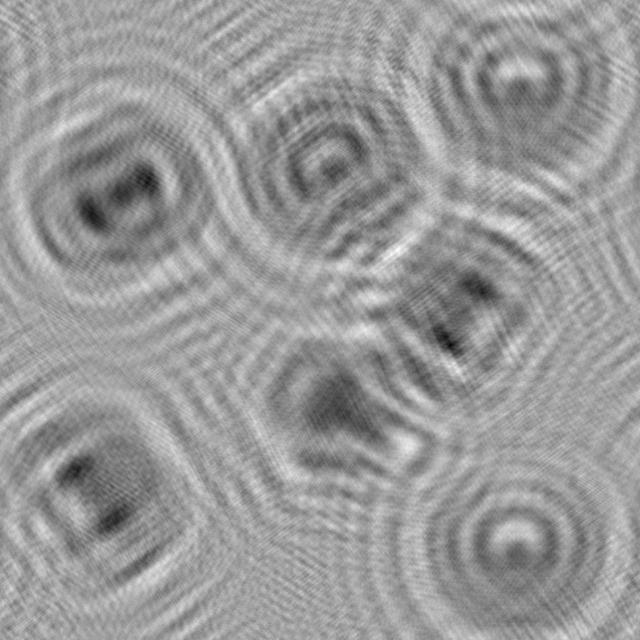A: (210, 297, 467, 524)
B: (0, 55, 251, 326)
C: (387, 424, 640, 640), (394, 0, 640, 210)
D: (193, 36, 459, 280)
E: (317, 189, 579, 426), (0, 353, 230, 616)
